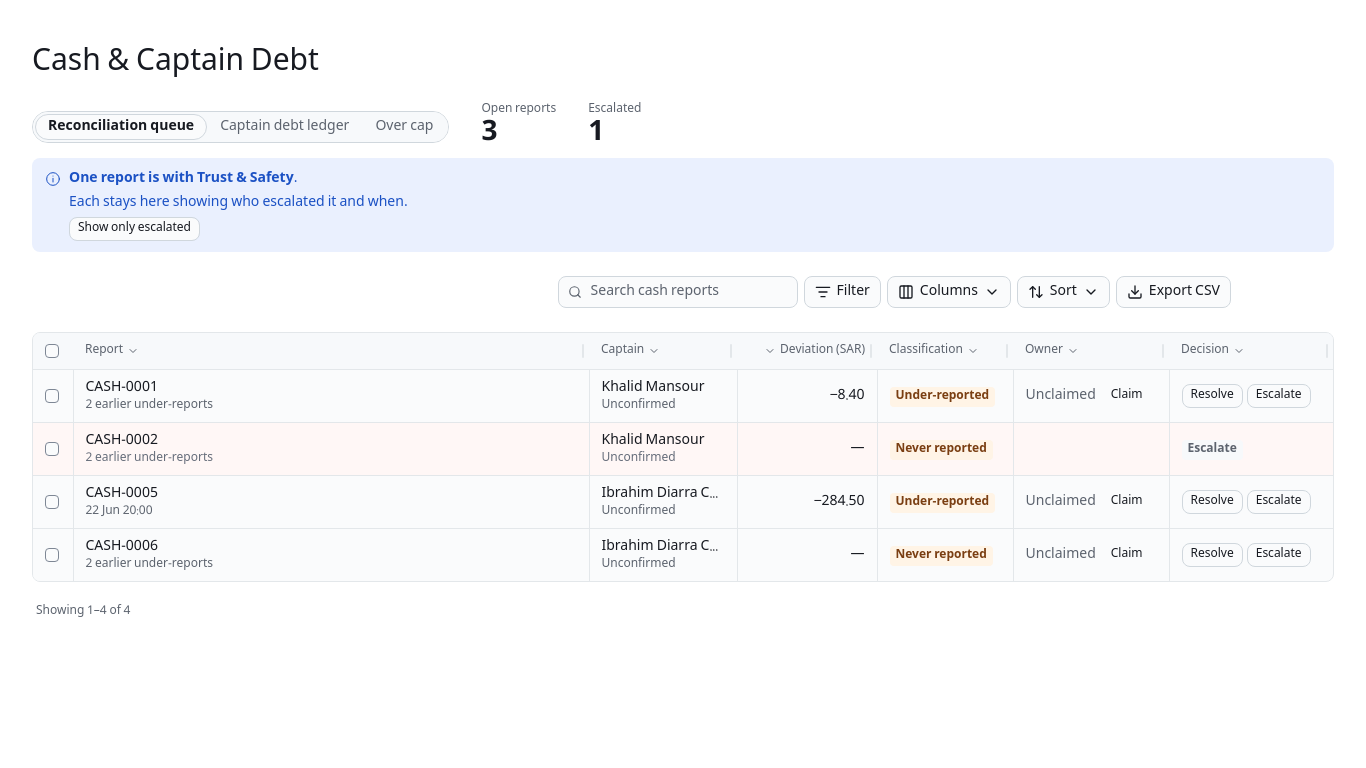
Test: a decided report, and an escalated one › AC-377 — deciding converts the row in place, naming the decider
Expected: the text "CASH-0001" is shown, [86,376,158,400]
Click the button "Resolve" in the row of "CASH-0001" at (1212, 396), box [1182,384,1243,408]
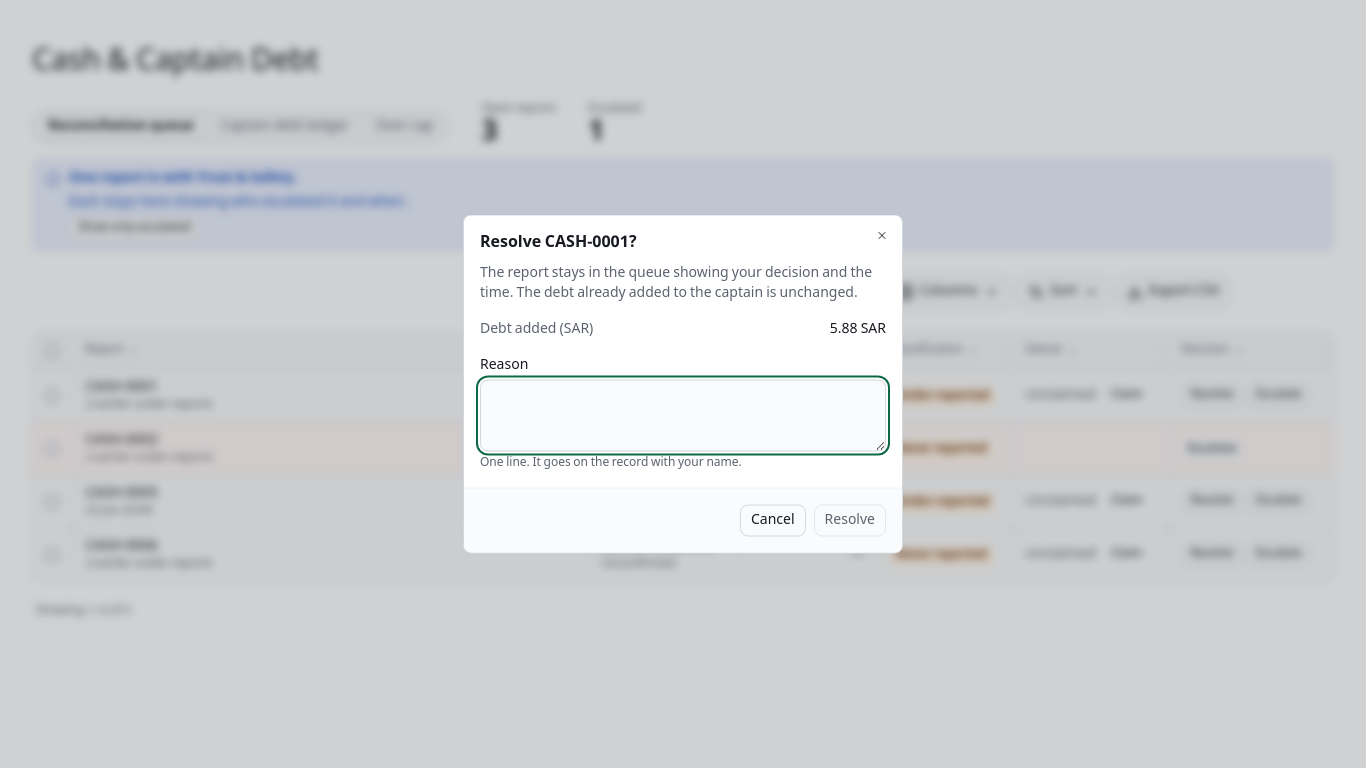
Type "Captain paid the shortfall in branch" into the text box labelled "Reason" at (683, 416), box [480,380,886,452]
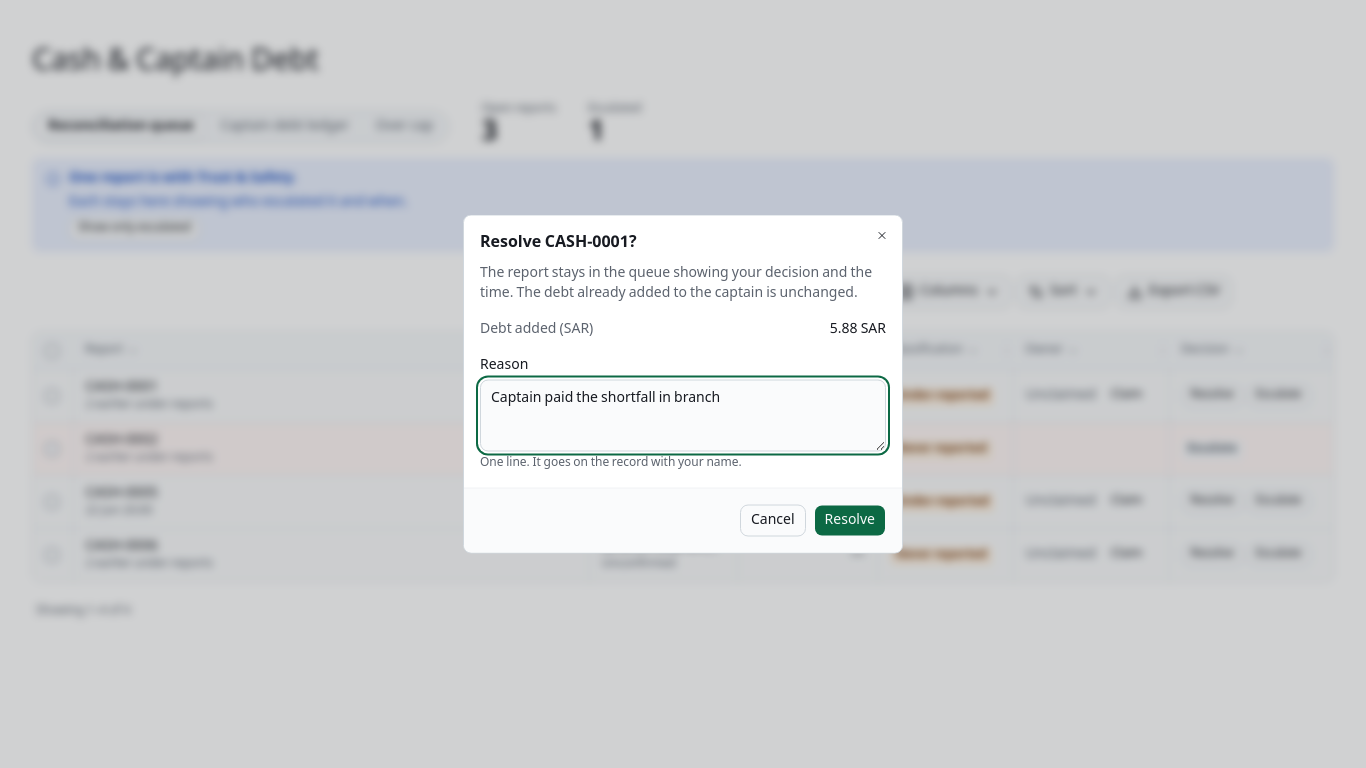
Click the button "Resolve" at (850, 520), box [814,504,886,536]
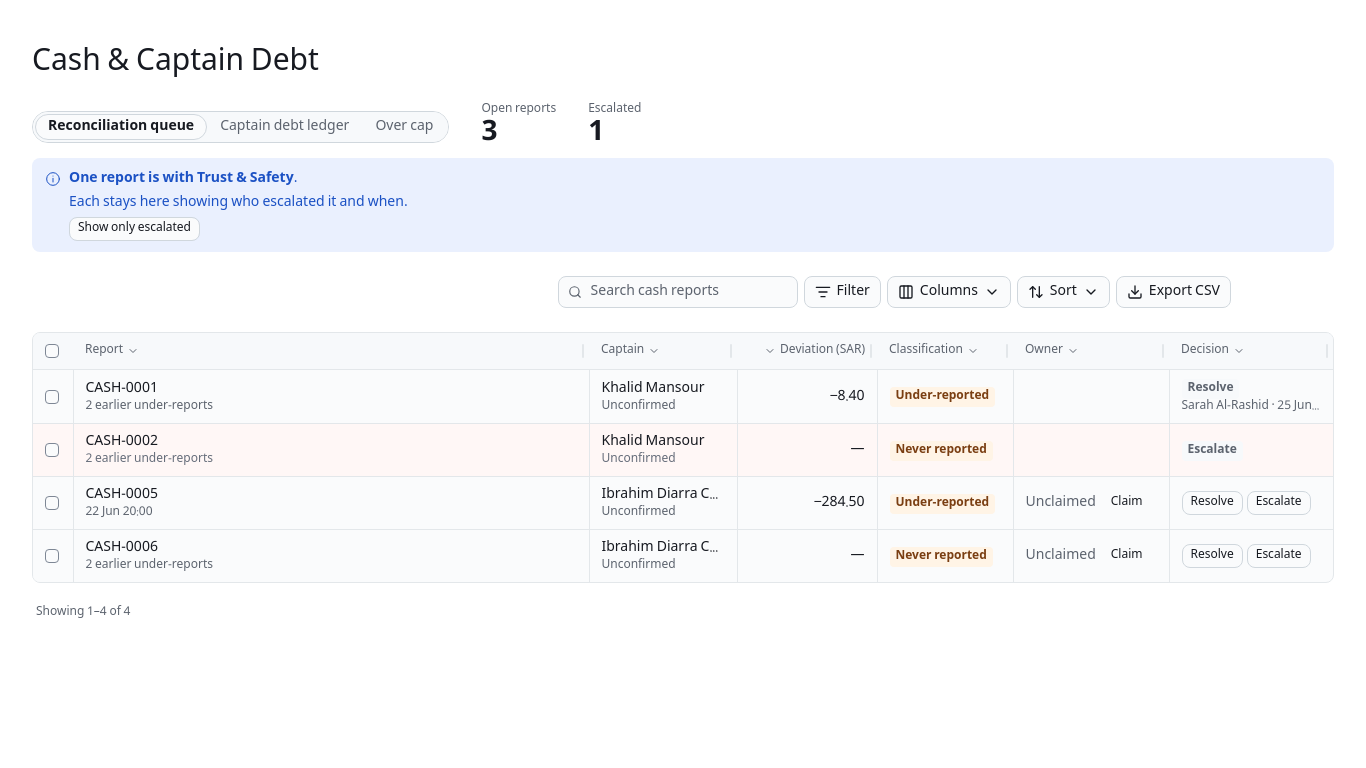
Expected: the row that starts with "CASH-0001" shows "Resolve", [1188,378,1234,399]
Expected: the row that starts with "CASH-0001" shows "Sarah Al-Rashid", [1182,396,1333,417]
